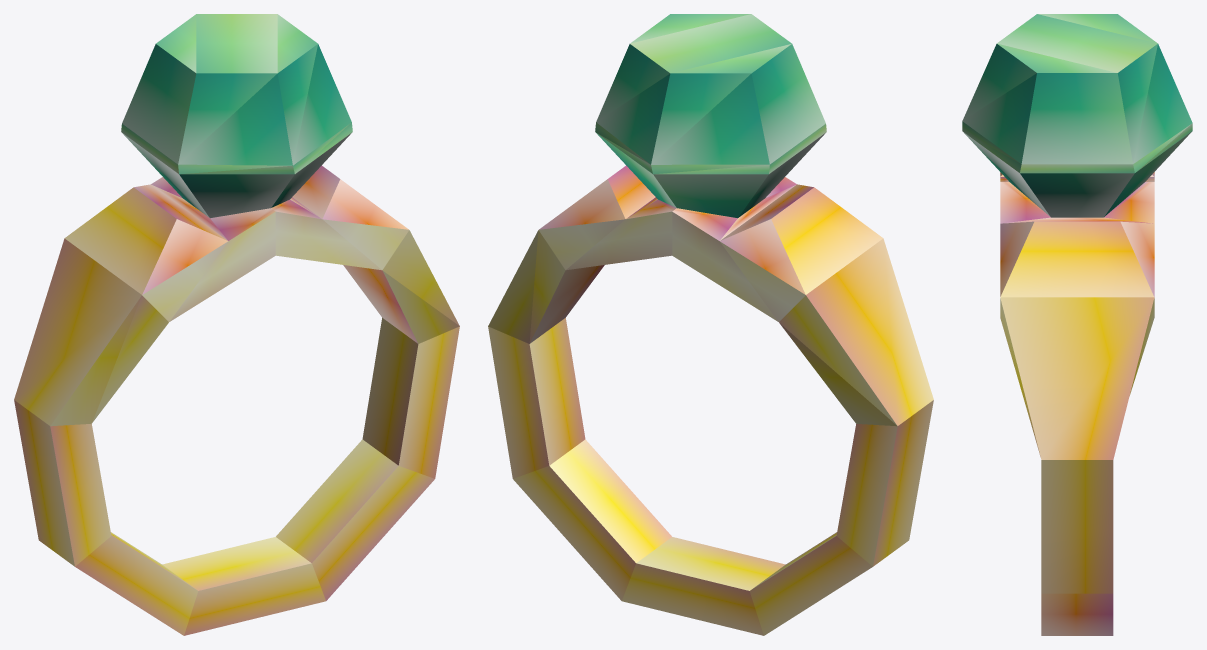
The model's file is ring01.fbx.
3 views of the same model, side by side, from view 1: azimuth 30°, elevation 25°; view 2: azimuth 150°, elevation 25°; view 3: azimuth 270°, elevation 25° (orthographic).
Parts seen in each view (by area): view 1: ring01; view 2: ring01; view 3: ring01.
Part boxes in pixels (left/top/right/bottom): ring01: left=14, top=14, right=459, bottom=635; ring01: left=488, top=14, right=933, bottom=635; ring01: left=962, top=14, right=1192, bottom=635.
Size of the model in its own units: 98.48 by 129 by 48.28.
